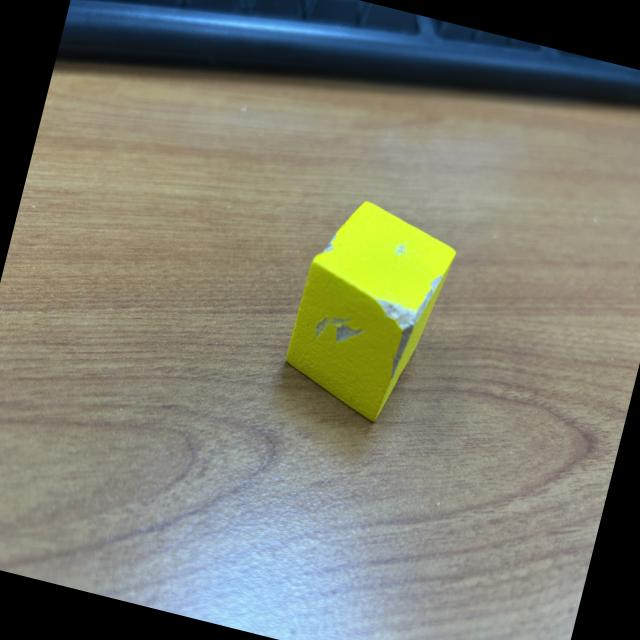broken: (276, 190, 462, 432)
